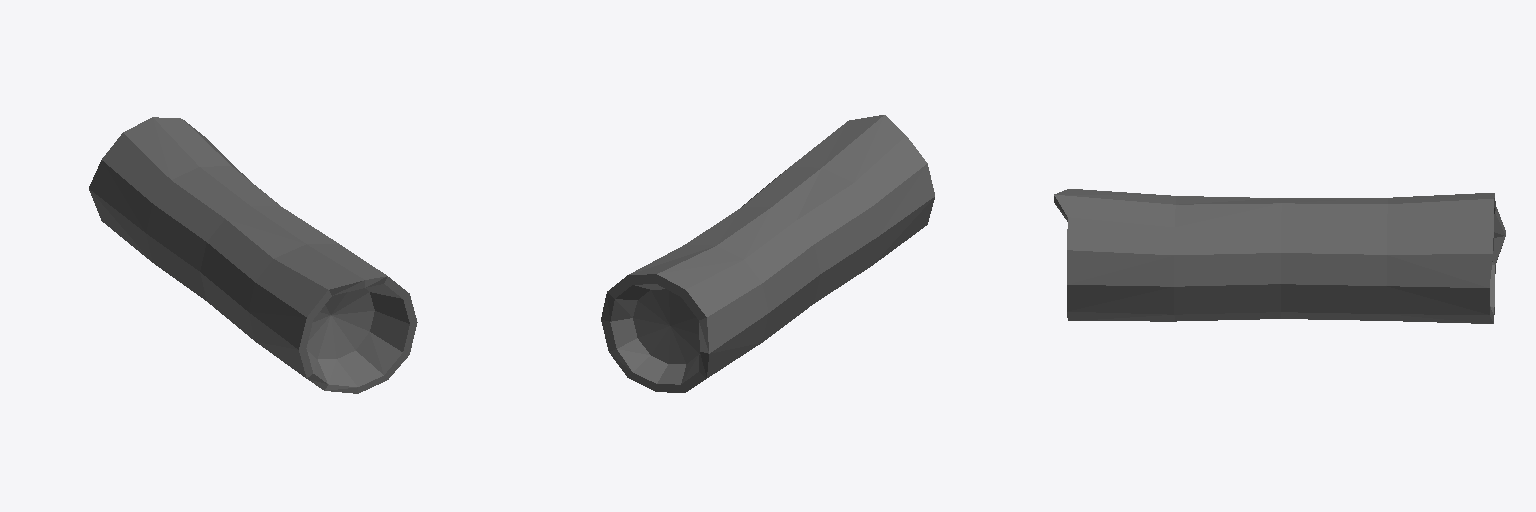
File: Log_3.obj
3 views of the same model, side by side, from view 1: azimuth 30°, elevation 25°; view 2: azimuth 150°, elevation 25°; view 3: azimuth 270°, elevation 25° (orthographic).
Parts seen in each view (by area): view 1: Cylinder006; view 2: Cylinder006; view 3: Cylinder006.
Part boxes in pixels (left/top/right/bottom): Cylinder006: left=89, top=117, right=417, bottom=393; Cylinder006: left=601, top=115, right=934, bottom=392; Cylinder006: left=1054, top=189, right=1505, bottom=323.
Size of the model in its own units: 1.58 by 1.44 by 4.95.